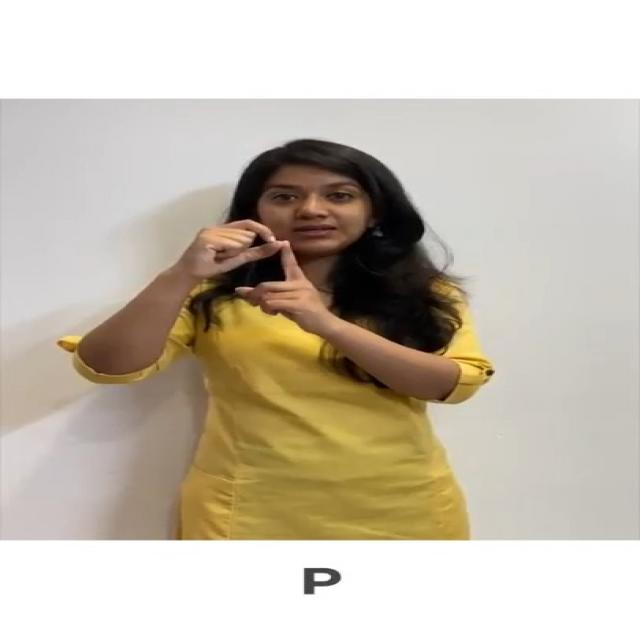P: (164, 216, 338, 343)
